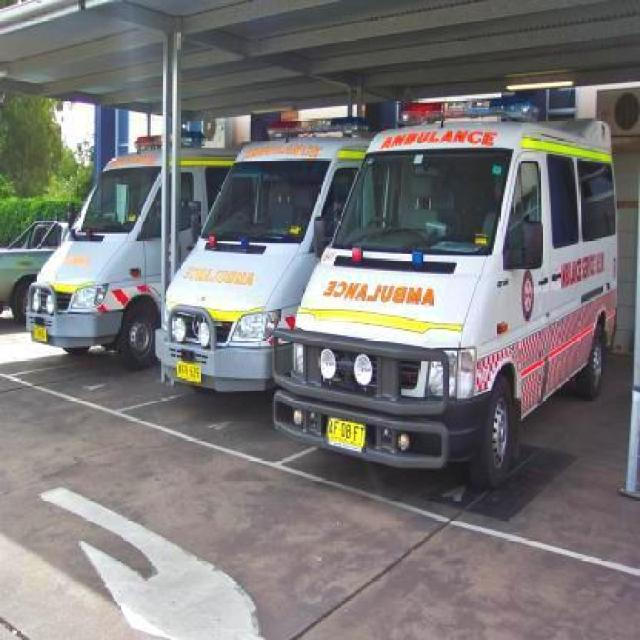Ambulance: (313, 102, 626, 464), (160, 101, 341, 386), (15, 139, 212, 345)
